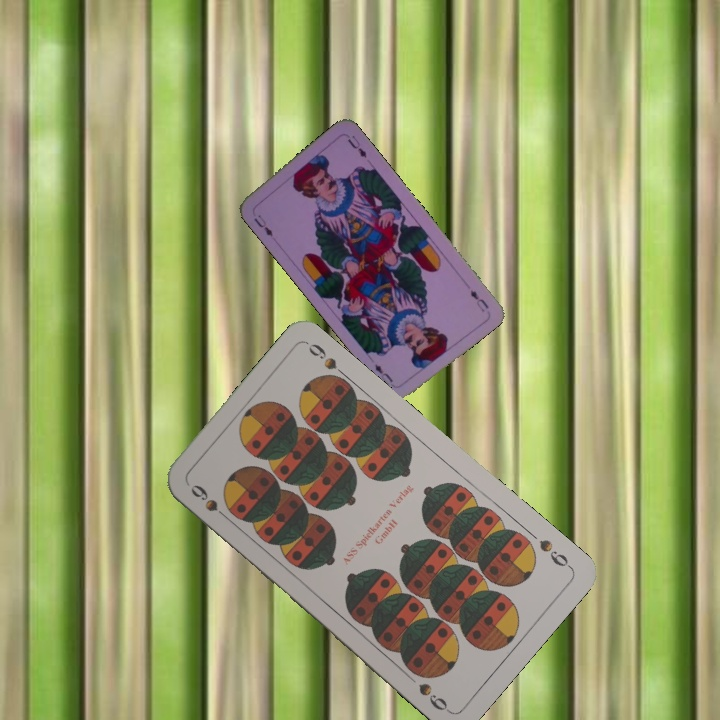EU: (466, 285, 491, 315), (250, 210, 275, 239)
S9: (186, 480, 234, 524), (535, 535, 574, 572)
